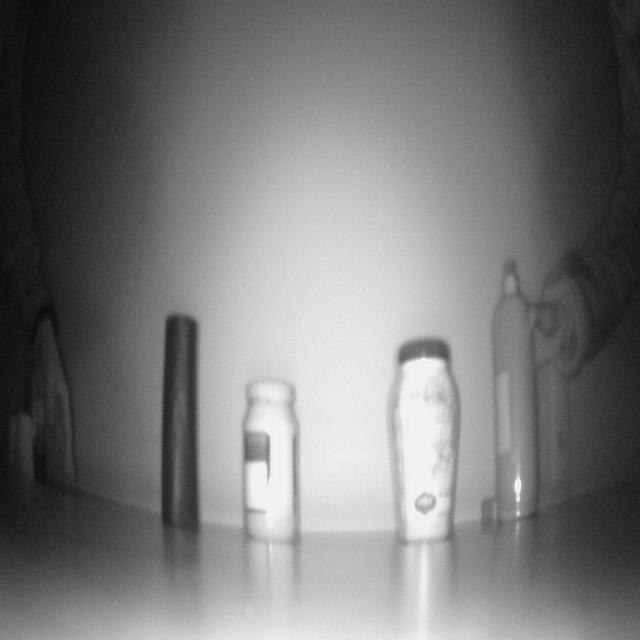targets: (389, 332, 462, 542), (490, 261, 536, 525), (241, 375, 299, 544), (160, 308, 199, 530), (539, 357, 574, 497), (7, 405, 35, 480)
